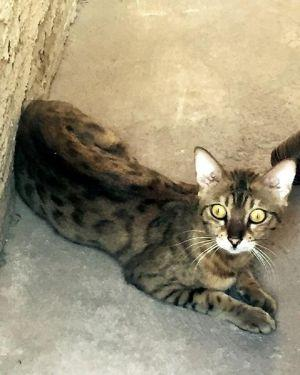bengal: (187, 143, 300, 265)
